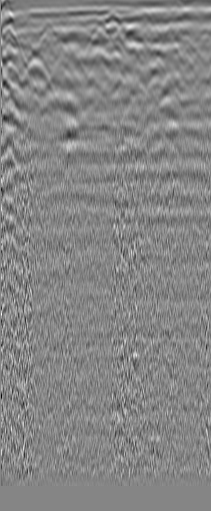오수: (15, 48, 52, 83)
우수: (156, 25, 183, 52)
